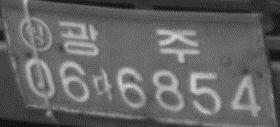0: (23, 58, 55, 99)
4: (230, 74, 261, 118)
5: (189, 70, 223, 116)
6: (116, 66, 146, 110), (58, 62, 89, 103)
8: (151, 69, 185, 113)
광주_D: (59, 20, 200, 62)
다: (90, 67, 114, 103)
영: (18, 17, 54, 52)
